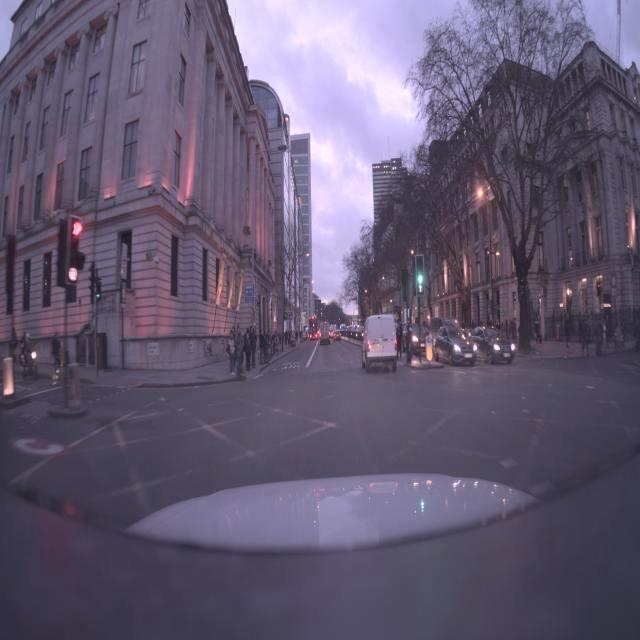Green: (414, 256, 431, 294)
Red: (65, 212, 89, 261)
